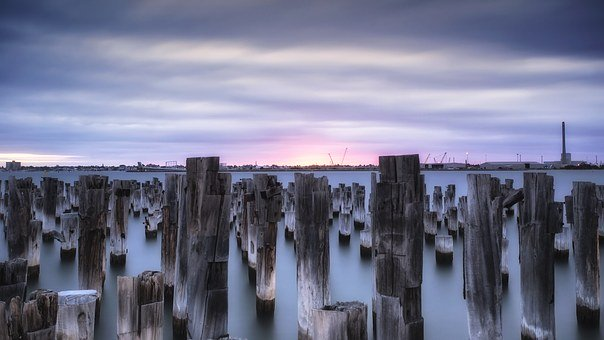sky: (5, 2, 604, 169)
